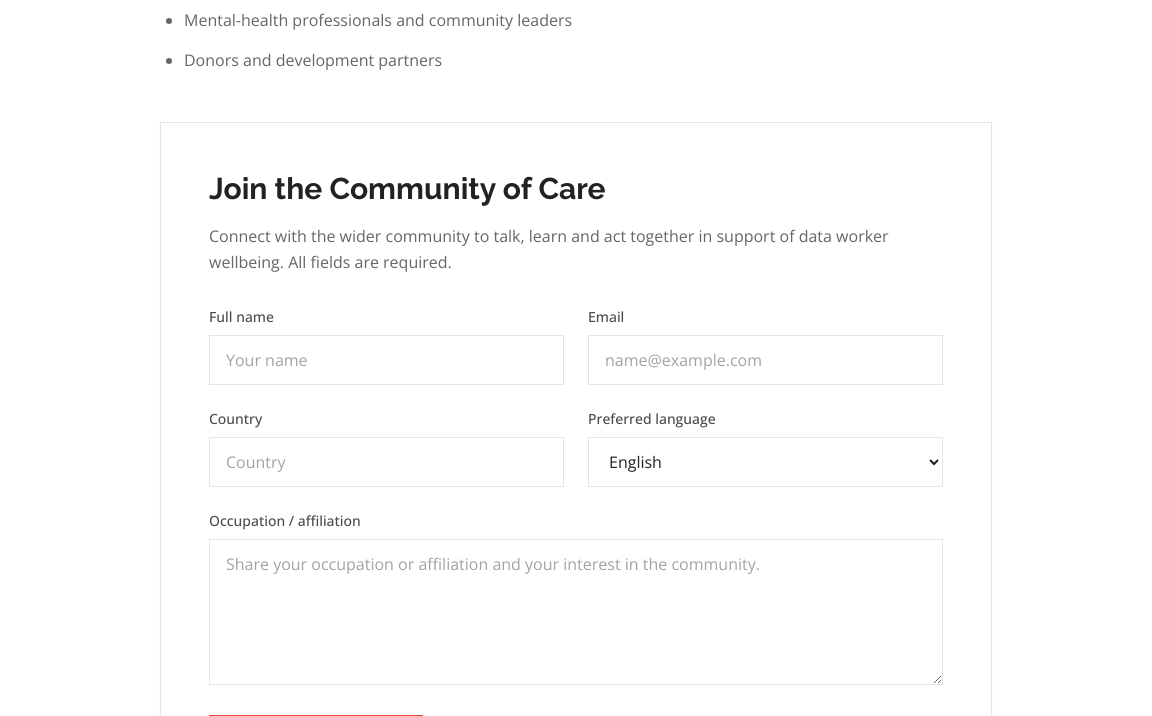
Test: does not report success when the service returns an HTML error page
The image size is (1152, 716).
(page scrolled)
Type "Test Member" into the field labelled "Full name". click: point(386, 360)
box: [209,335,564,385]
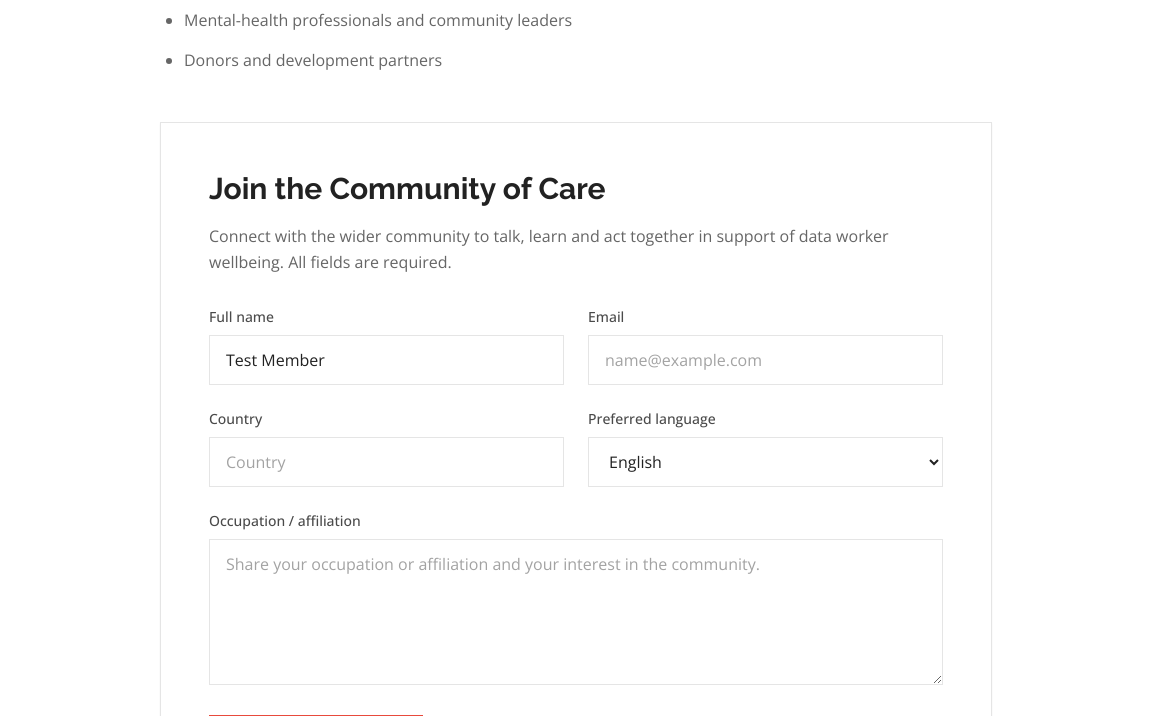
Type "member@example.com" into the field labelled "Email". click: point(766, 360)
box: [588,335,943,385]
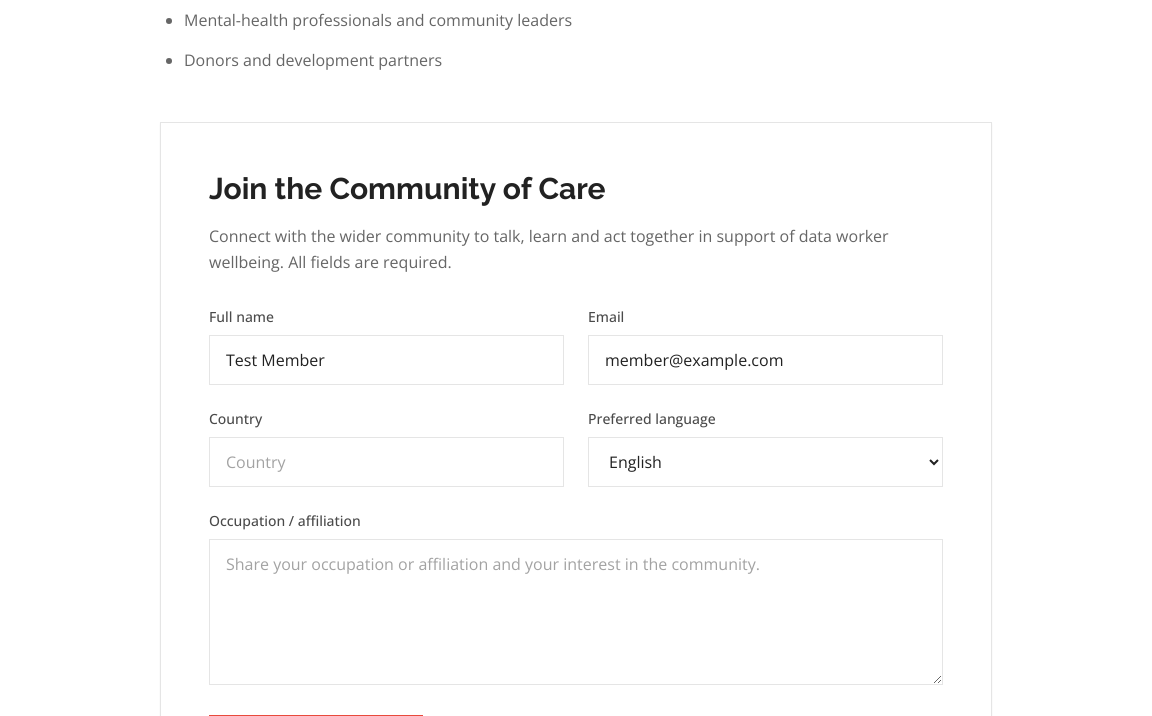
Type "Nigeria" into the field labelled "Country". click: point(386, 462)
box: [209,437,564,487]
(page scrolled)
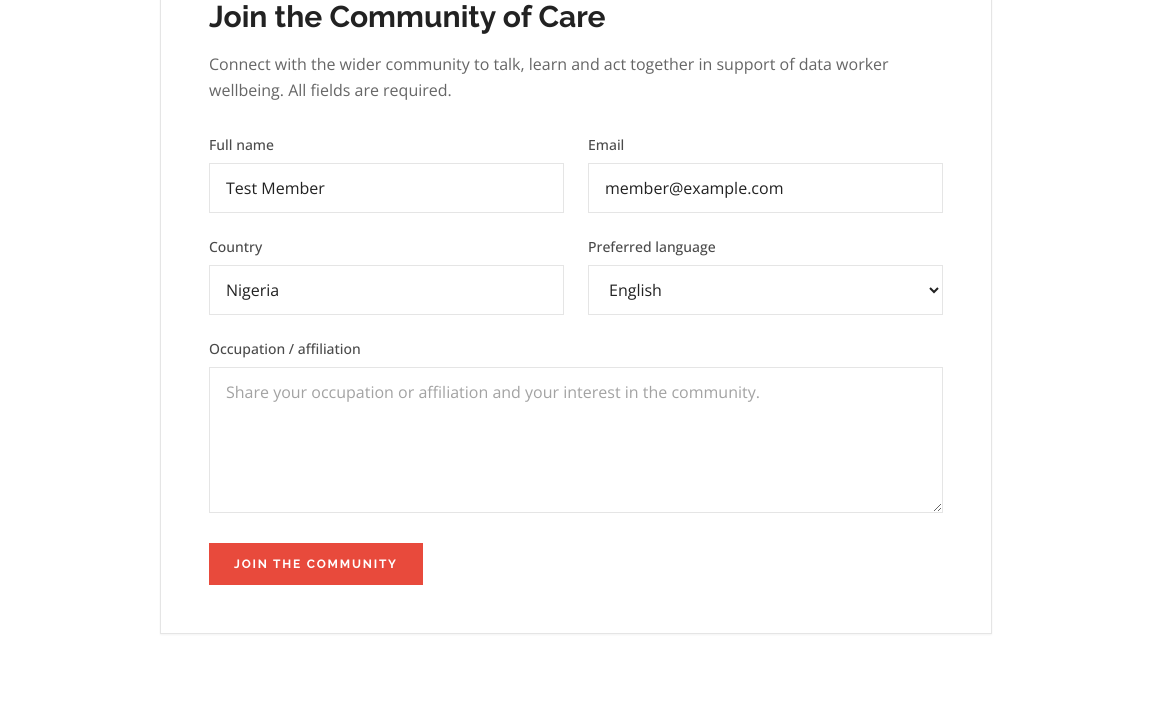
Submit the form named "Join the community", box [209,135,943,585]
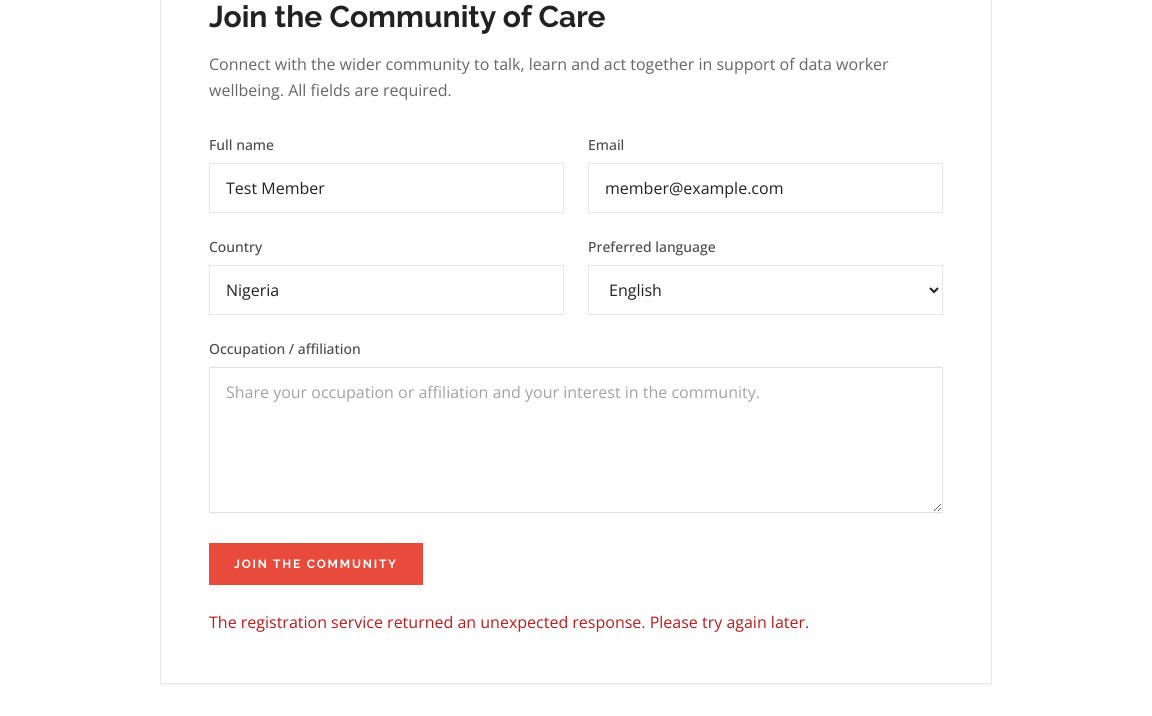
Check: the message is shown, box [209,611,809,633]
